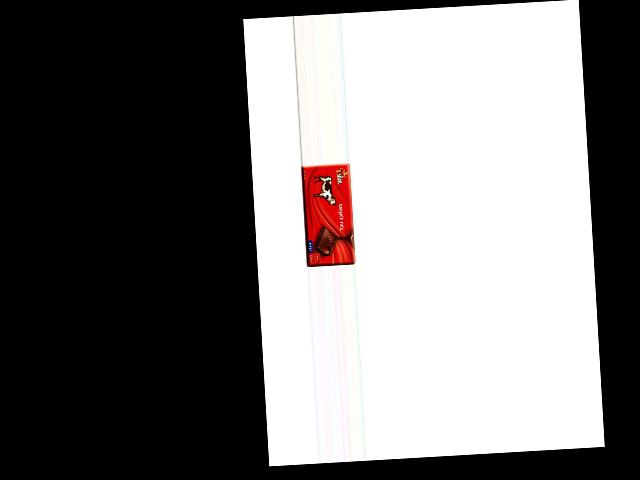chocolate: (301, 162, 355, 267)
